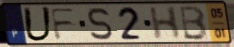2: (117, 5, 145, 42)
B: (179, 4, 210, 42)
F: (48, 7, 78, 42)
H: (148, 5, 182, 41)
S: (87, 6, 115, 42)
U: (22, 5, 55, 43)
